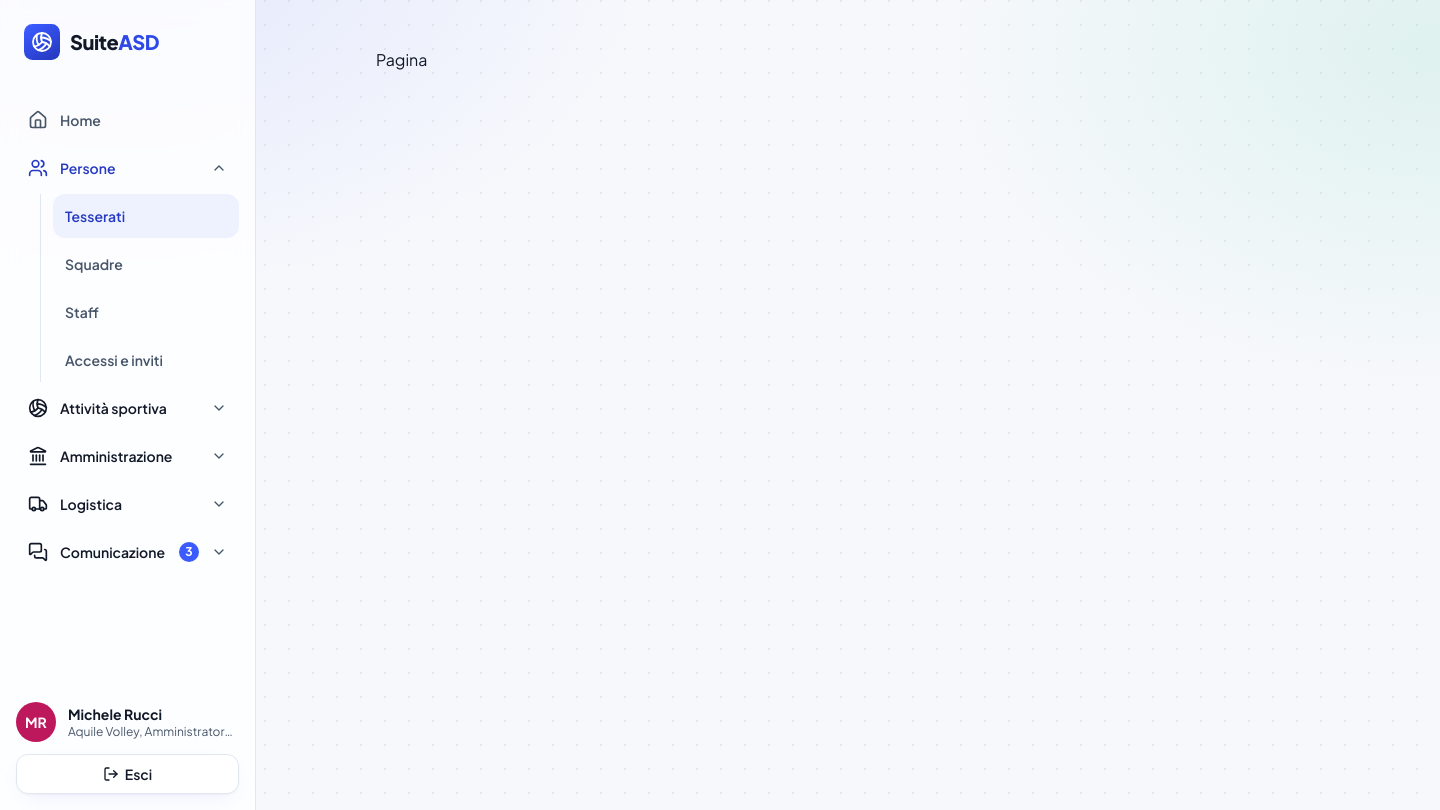
Test: AppShell › unread notifications badge › shows the count on the title of Comunicazione while the group is closed, and moves it onto the item when it opens
The image size is (1440, 810).
Expected: the button "Persone" is shown, left=16, top=146, right=239, bottom=190
Click the button named "Comunicazione 3 da leggere".
click(128, 552)  # box left=16, top=530, right=239, bottom=574
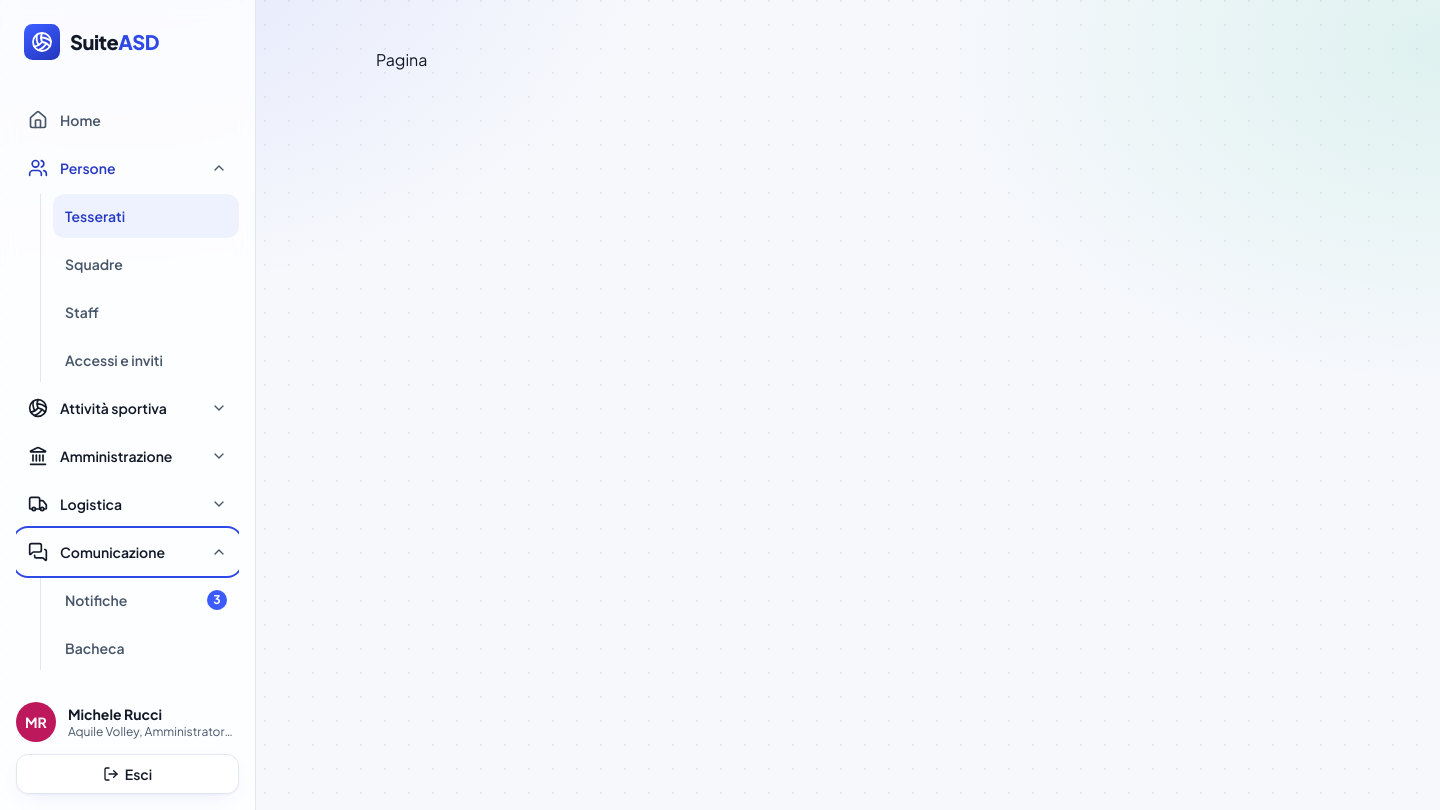
Result: the button "Comunicazione" is expanded at left=16, top=530, right=239, bottom=574
Result: the link named "Notifiche 3 da leggere" is shown at left=65, top=590, right=227, bottom=610
